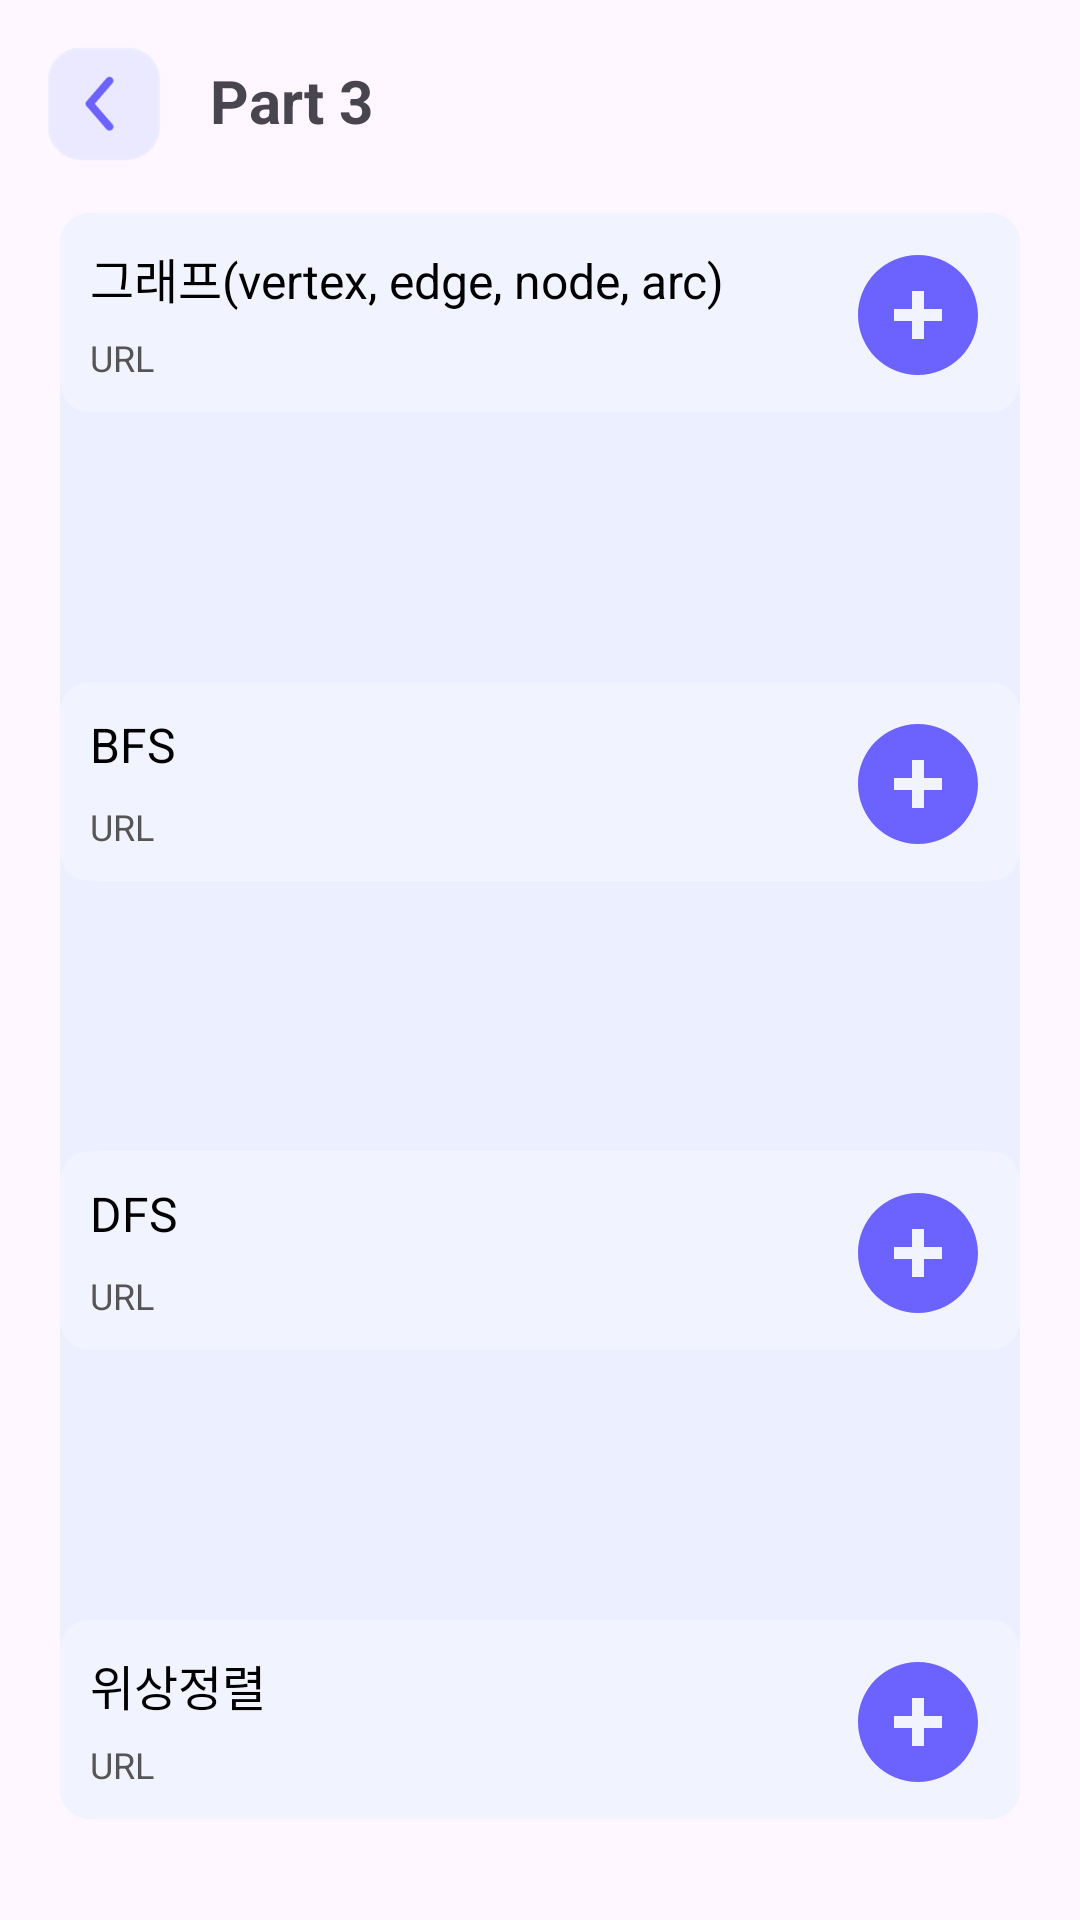

Locate icon controls on the screen. Image size 1080x1920, boxes as [x1,y1,x2,y2].
Go back: [48,48,160,160]
plus: [858,255,978,375], [858,724,978,844], [858,1193,978,1313], [858,1662,978,1782]
